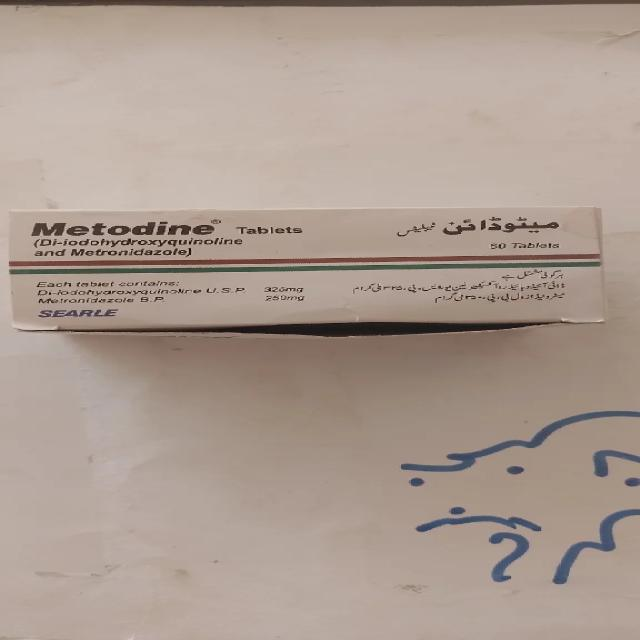drug-name: (28, 216, 222, 238)
